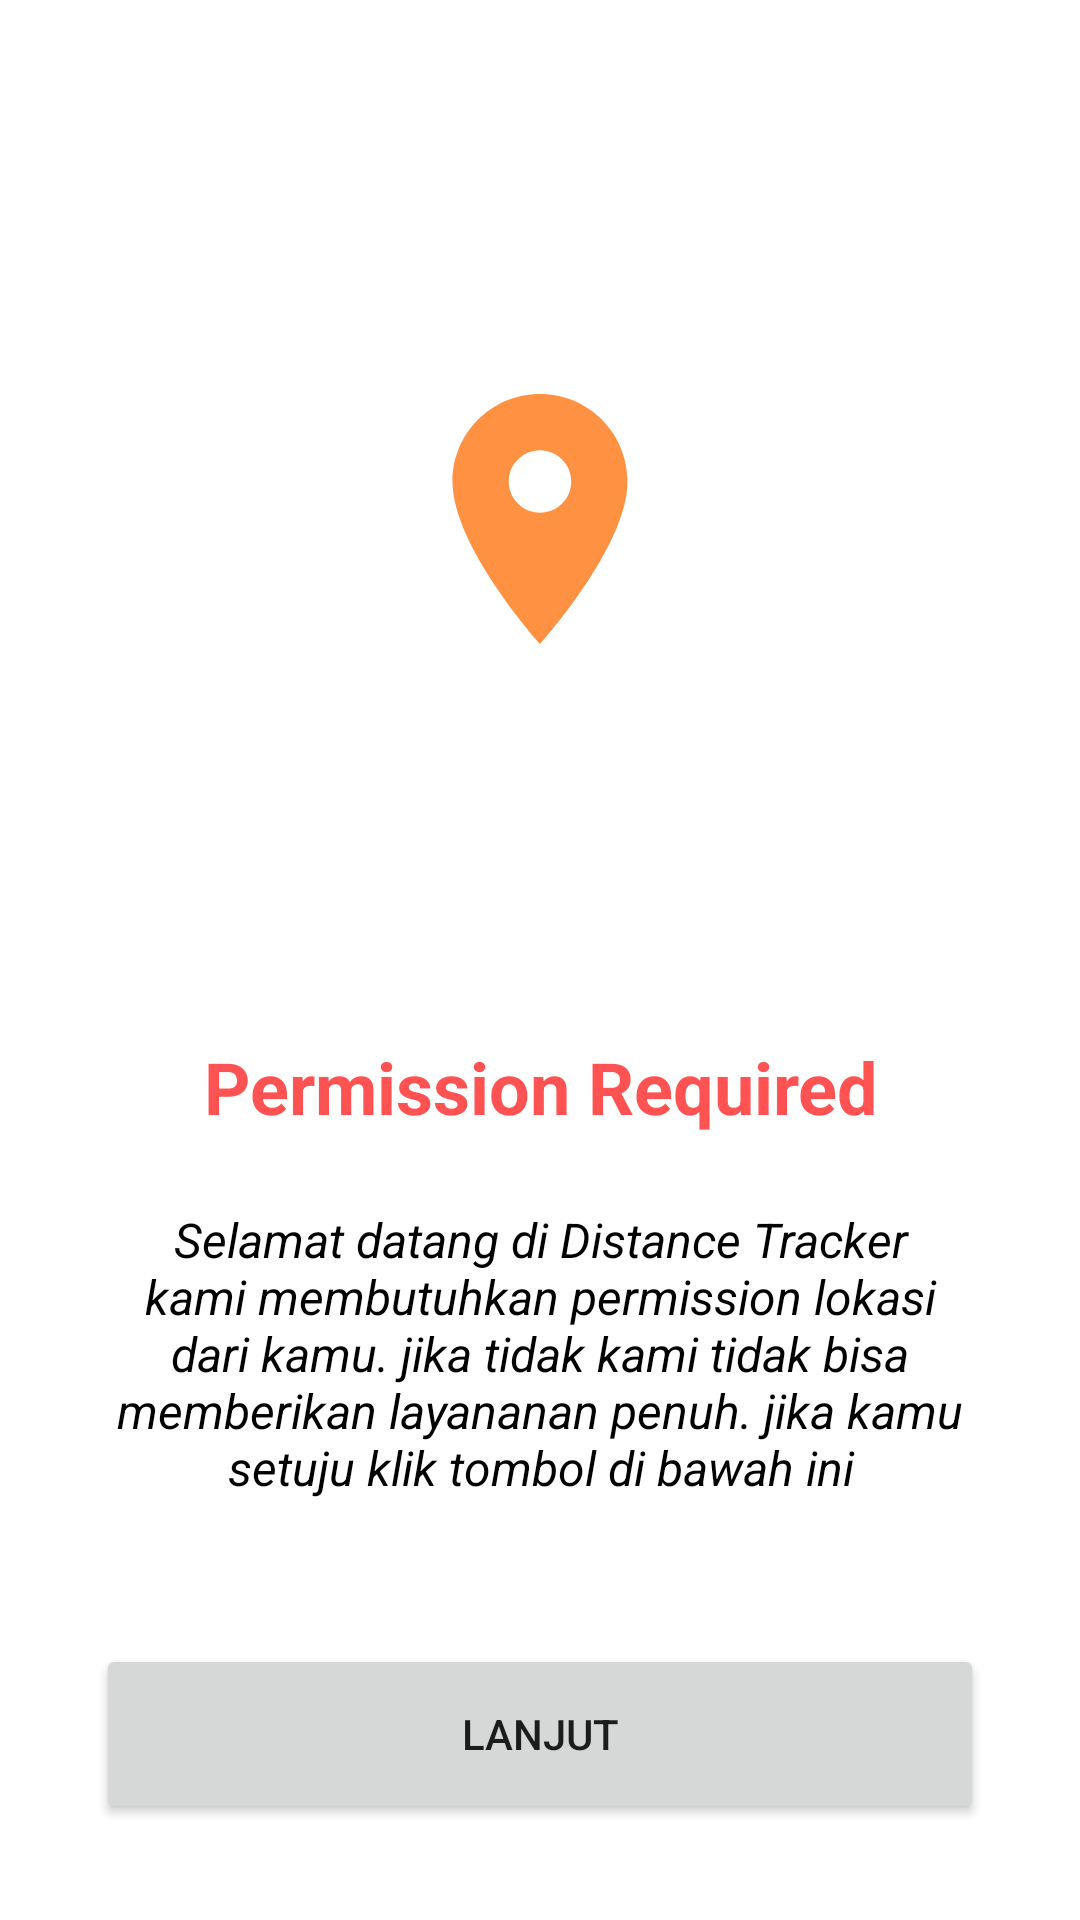

Icons on this 1080w x 1920h Android screen, each with its box as box(x1, y1, x2, y2):
Location Permission Image: box(452, 394, 628, 644)
